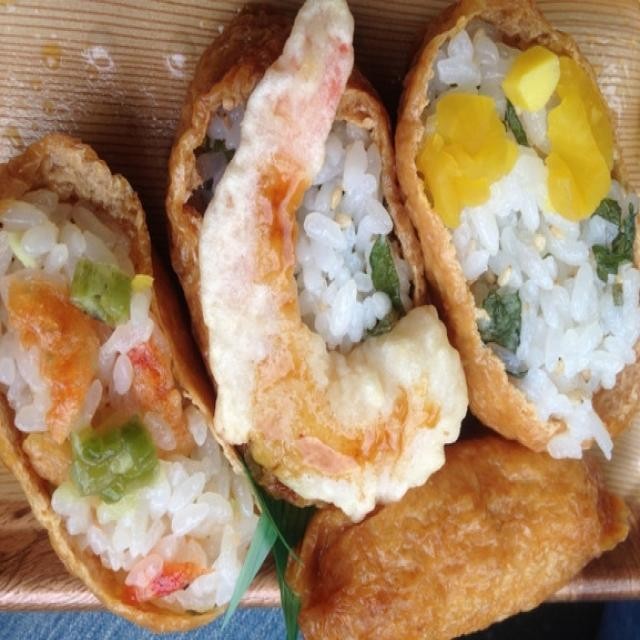寿司卷物: (5, 10, 629, 621)
